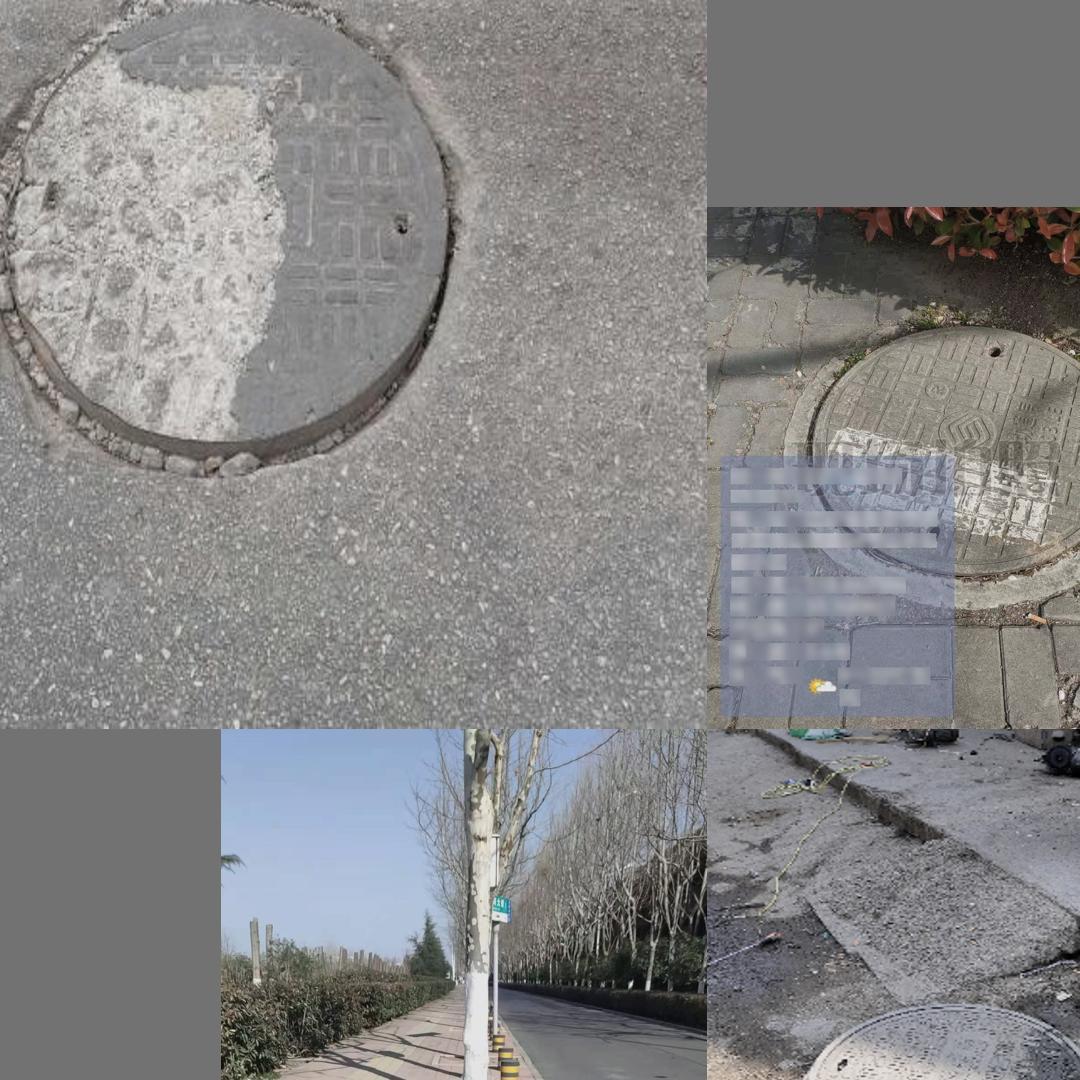circle: (0, 0, 477, 488), (801, 312, 1080, 598), (787, 989, 1080, 1080)
